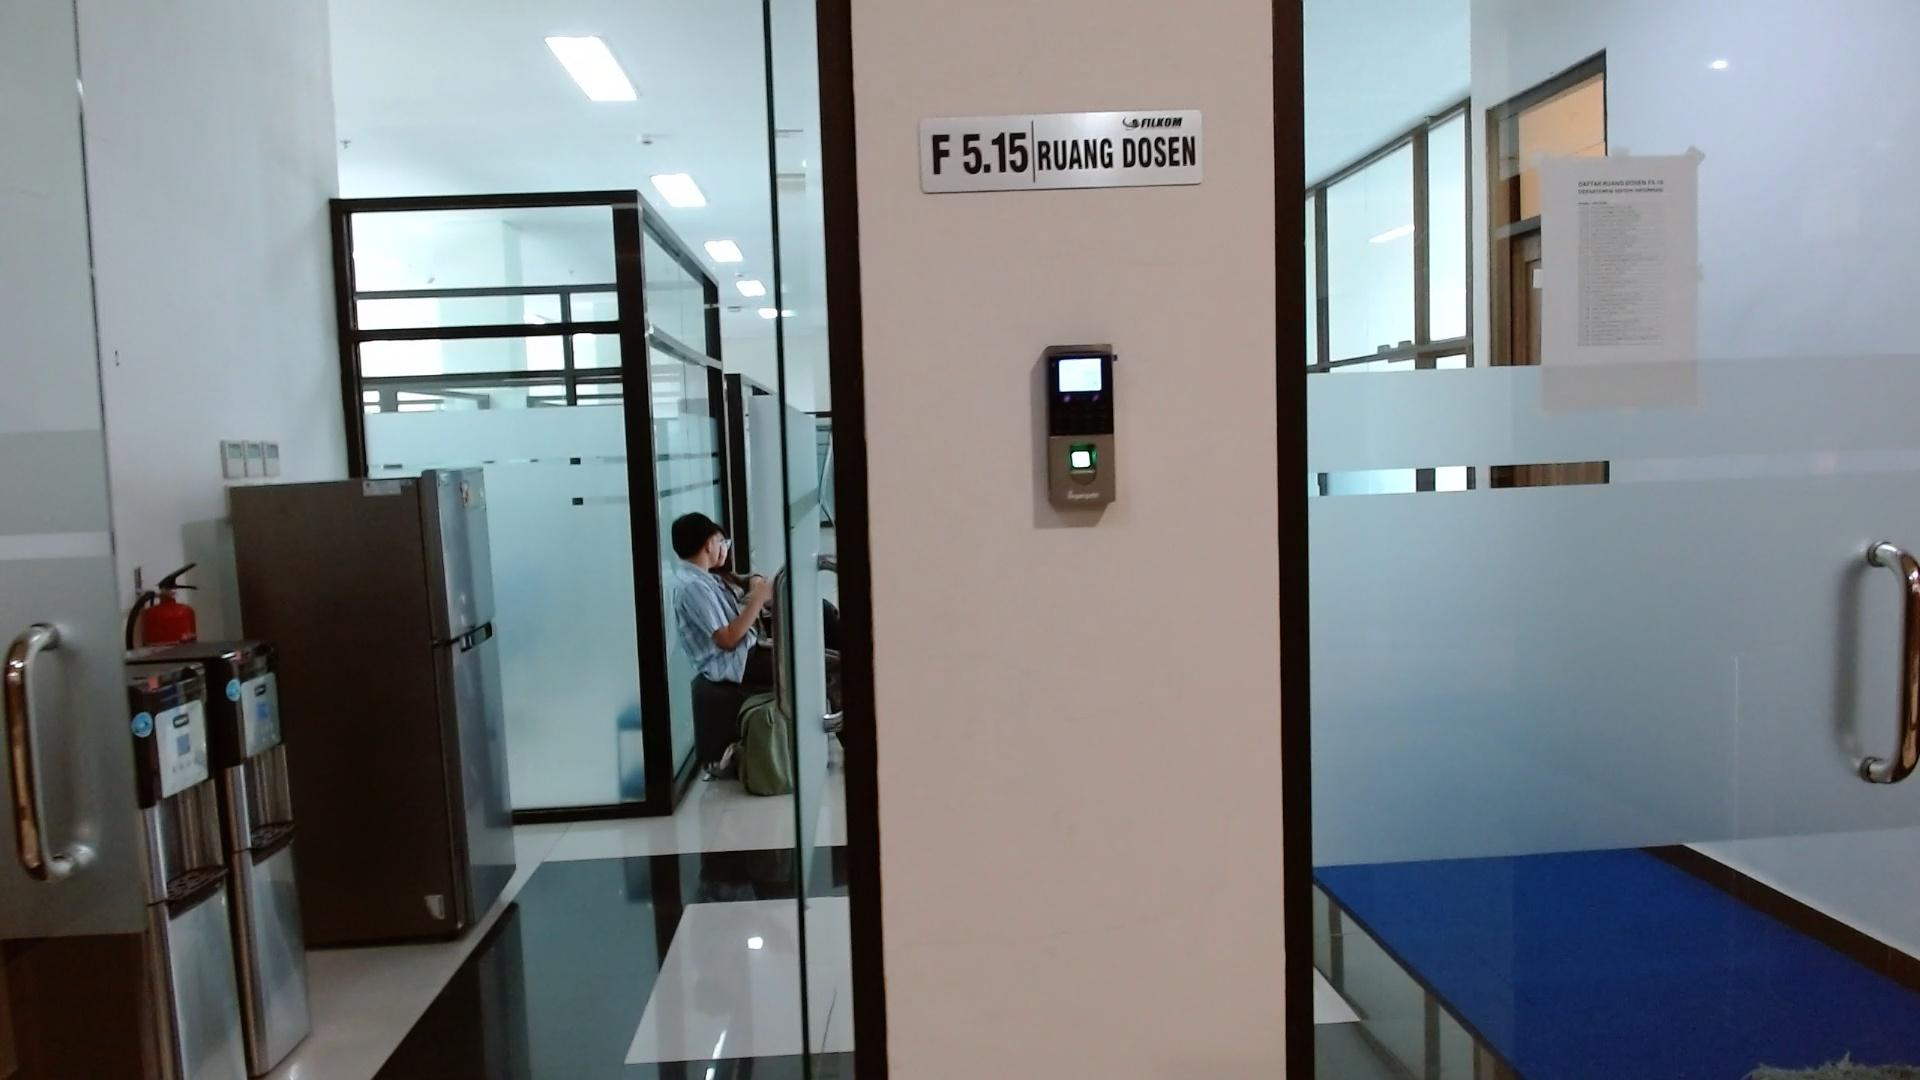plate: (919, 108, 1204, 194)
